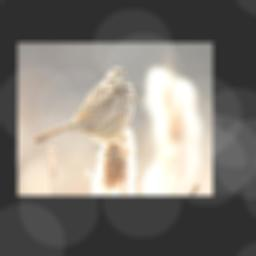Sparrow: (31, 66, 136, 164)
